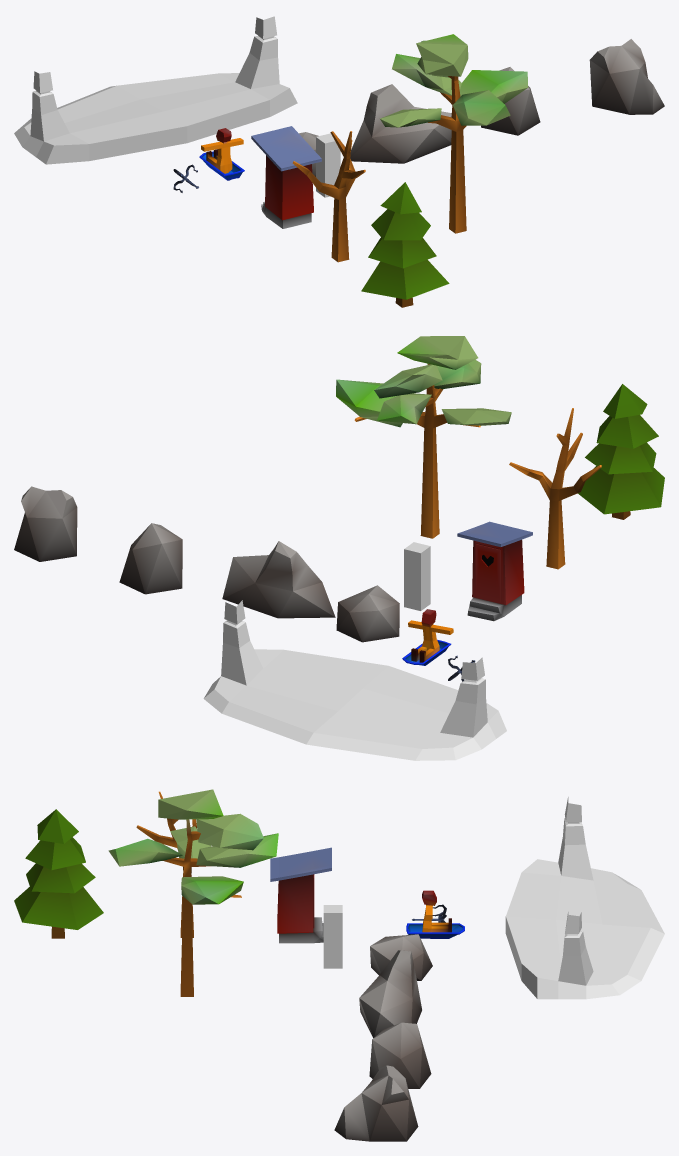
File: romppeet.glb
3 renders of one model, top to bottom at view 1: azimuth 30°, elevation 25°; view 2: azimuth 150°, elevation 25°; view 3: azimuth 270°, elevation 25°, orthographic. The views are drawn at different scales.
Parts seen in each view (by area): view 1: Cube, manty, kuusi, huussi, kivi2, kivi4, lehtipuu, kivi3, Cube.003; view 2: Cube, manty, kuusi, kivi2, huussi, kivi4, kivi3, lehtipuu, kivi1, Cube.003; view 3: Cube, manty, kuusi, kivi4, huussi, kivi2, kivi3, kivi1, Cube.003, lehtipuu, pulkka.
Part boxes in pixels (box(x1,y1,x2,y2)): Cube: box(14, 16, 297, 164); manty: box(380, 34, 528, 233); kuusi: box(361, 182, 449, 307); huussi: box(251, 126, 321, 228); kivi2: box(350, 84, 451, 163); kivi4: box(589, 39, 664, 114); lehtipuu: box(292, 131, 365, 262); kivi3: box(481, 67, 540, 135); Cube.003: box(316, 133, 340, 197); Cube: box(203, 600, 506, 760); manty: box(336, 336, 511, 538); kuusi: box(578, 384, 664, 519); kivi2: box(222, 541, 335, 618); huussi: box(457, 521, 532, 621); kivi4: box(14, 486, 77, 561); kivi3: box(119, 523, 182, 594); lehtipuu: box(509, 408, 601, 569); kivi1: box(336, 585, 399, 642); Cube.003: box(404, 542, 430, 610); Cube: box(505, 797, 664, 999); manty: box(108, 789, 278, 996); kuusi: box(14, 809, 103, 938); kivi4: box(334, 1065, 418, 1141); huussi: box(270, 847, 331, 943); kivi2: box(359, 950, 421, 1037); kivi3: box(369, 1022, 431, 1088); kivi1: box(370, 934, 432, 980); Cube.003: box(323, 905, 342, 968); lehtipuu: box(136, 791, 196, 937); pulkka: box(406, 923, 464, 938).
Bounding box in the file's own units: 18.28 × 6.56 × 19.02.
